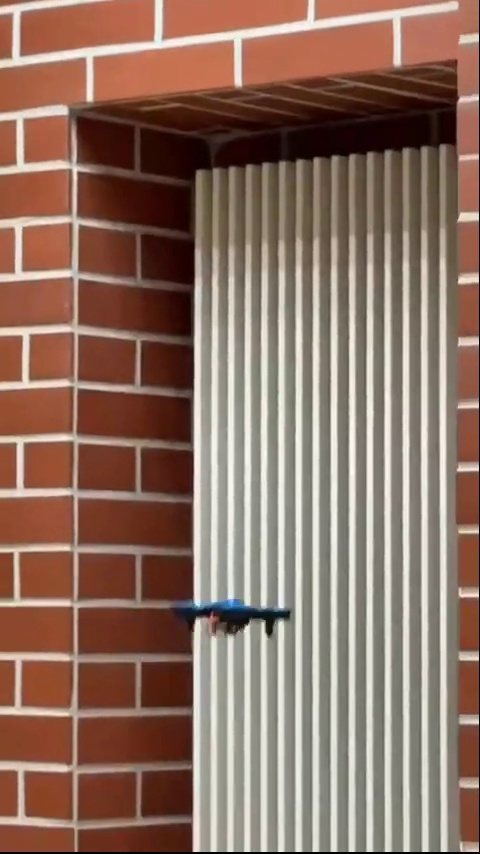drone: (177, 598, 286, 638)
